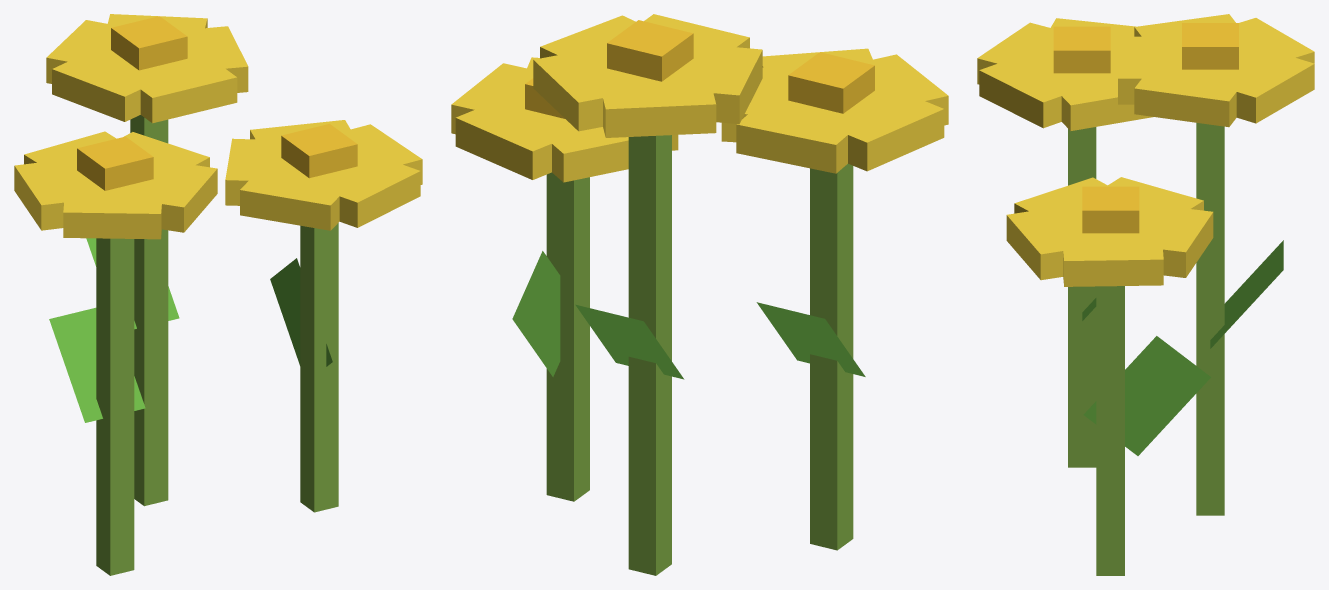
The model's file is flower_yellow.obj.
The picture shows the model from 3 angles, left to right: view 1: azimuth 30°, elevation 25°; view 2: azimuth 150°, elevation 25°; view 3: azimuth 270°, elevation 25°; orthographic projection. The views are drawn at different scales.
Visible parts, largest first — view 1: bloom, stem; view 2: stem, bloom; view 3: bloom, stem.
Part boxes in pixels (x1,y1,x2,y2): bloom: (14, 14, 422, 239); stem: (49, 115, 338, 575); stem: (512, 135, 865, 575); bloom: (451, 14, 948, 182); bloom: (977, 14, 1314, 286); stem: (1068, 122, 1283, 575).
Size of the model in its own units: 0.3177 by 0.3675 by 0.2369.
